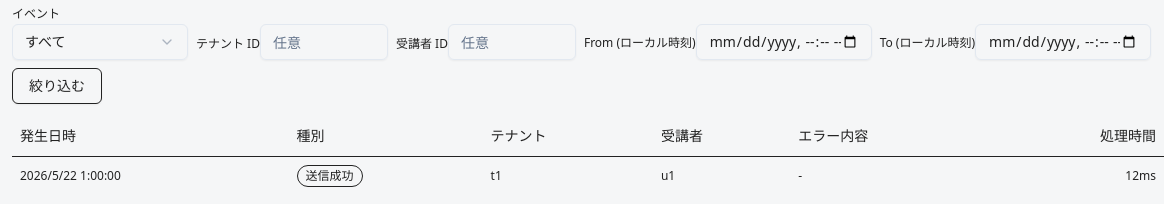
AuditLogTable › 適用ボタンで filter を URL クエリに反映し、結果配列をリセットする
Expected: the text "送信成功" is shown, [296,164,362,186]
Type "tenant-x" into the field named "テナント ID". click: (324, 42)
box: [260,24,388,60]
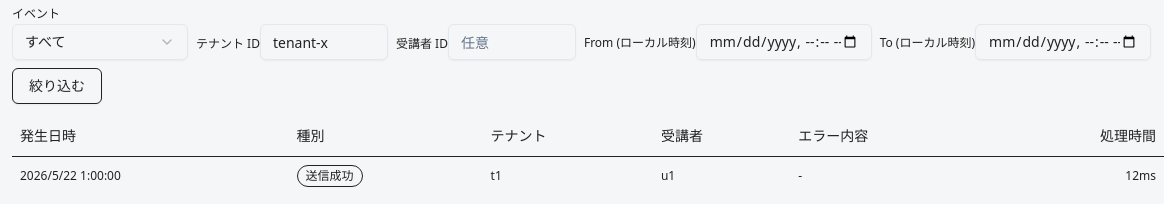
Type "user-y" into the field named "受講者 ID". click: (512, 42)
box: [448,24,576,60]
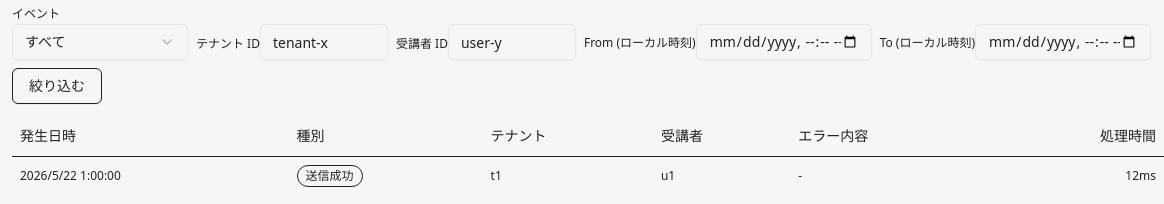
Click the button "絞り込む". click: (57, 86)
box: [12,68,102,104]
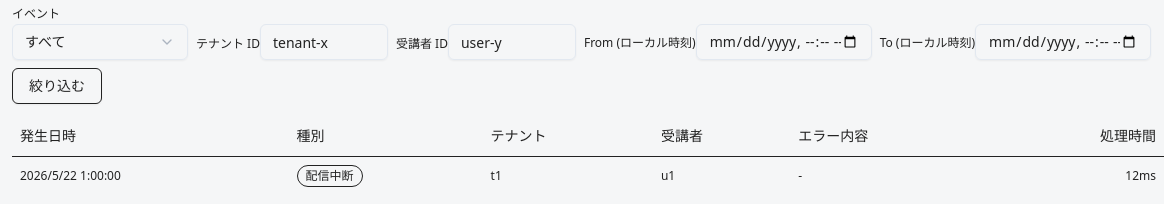
Expected: the text "配信中断" is shown, [296,164,362,186]
Expected: the text "送信成功" is gone
